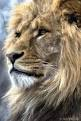lion: (4, 1, 81, 118)
